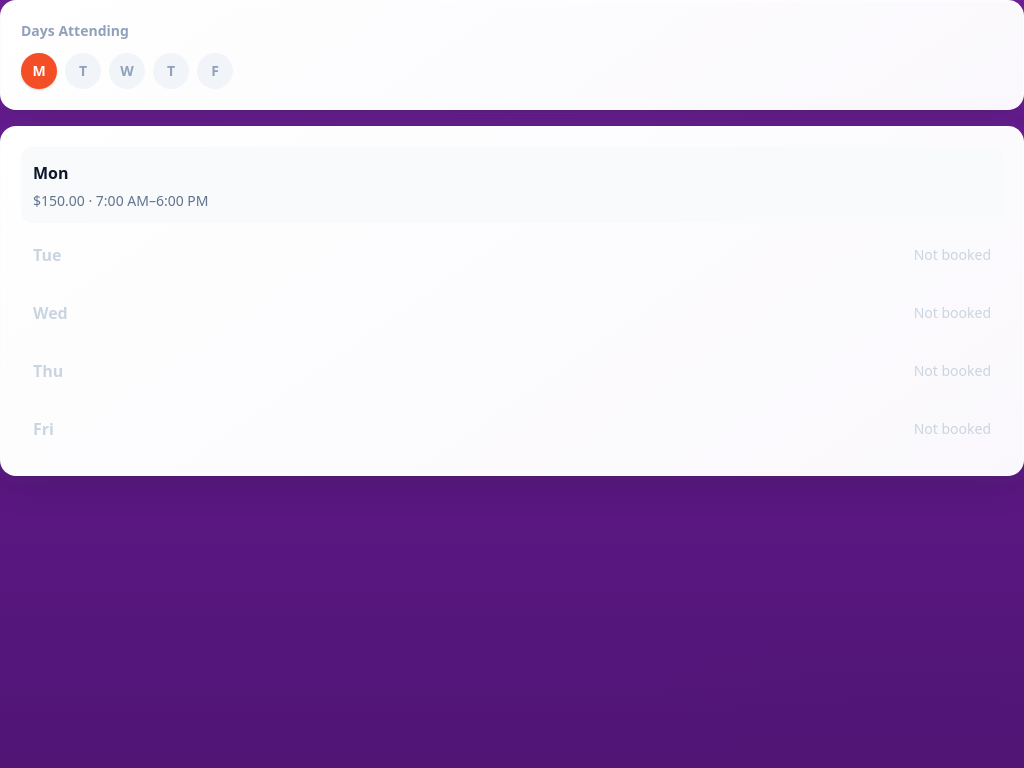
FortnightlyGrid uniform sessions › keeps the editor for the kindy toggle but hides fee/times when uniform
Step 1. Click the button "Mon $150.00 · 7:00 AM–6:00 PM" → (51, 173), box [21,147,1003,223]
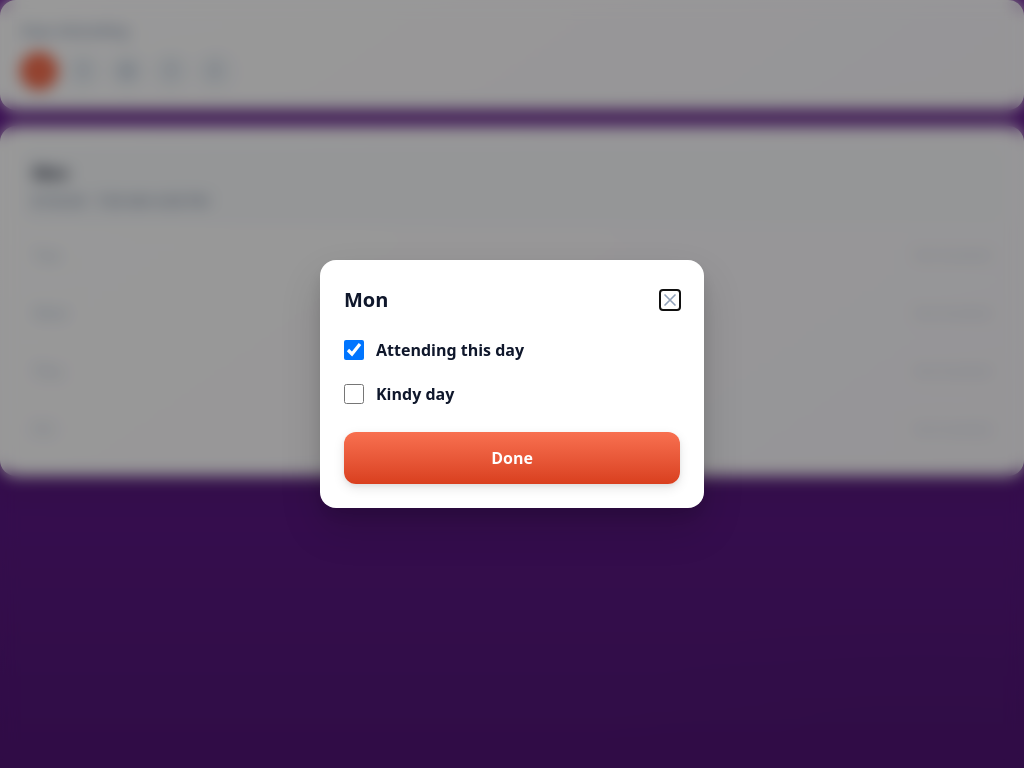
Expected: the dialog is shown, [320,260,704,508]
Expected: the text "Kindy day" is shown, [376,380,454,408]
